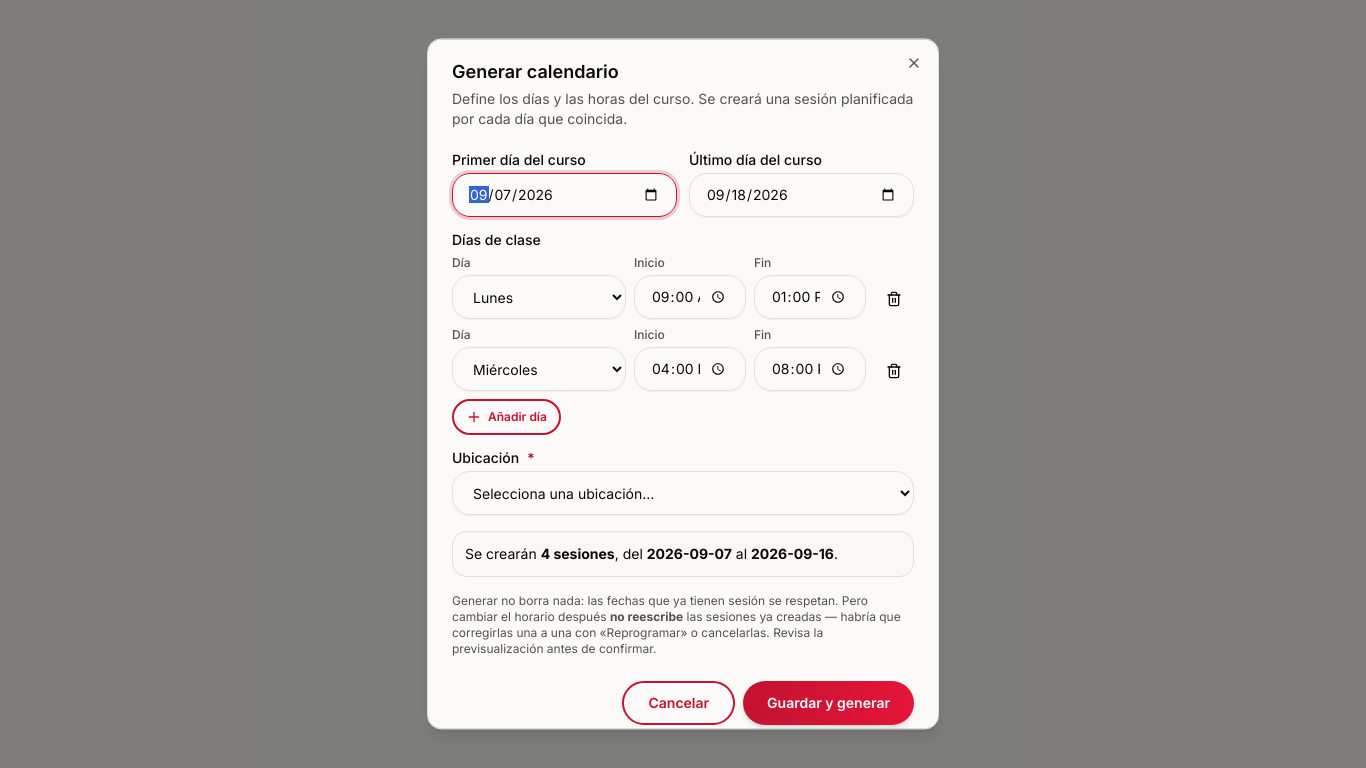
Scenario: GenerarCalendarioDialog — validación › no genera sin ubicación
The width and height of the screenshot is (1366, 768).
Click the button "Guardar y generar" at (829, 703), box [743, 681, 914, 725]
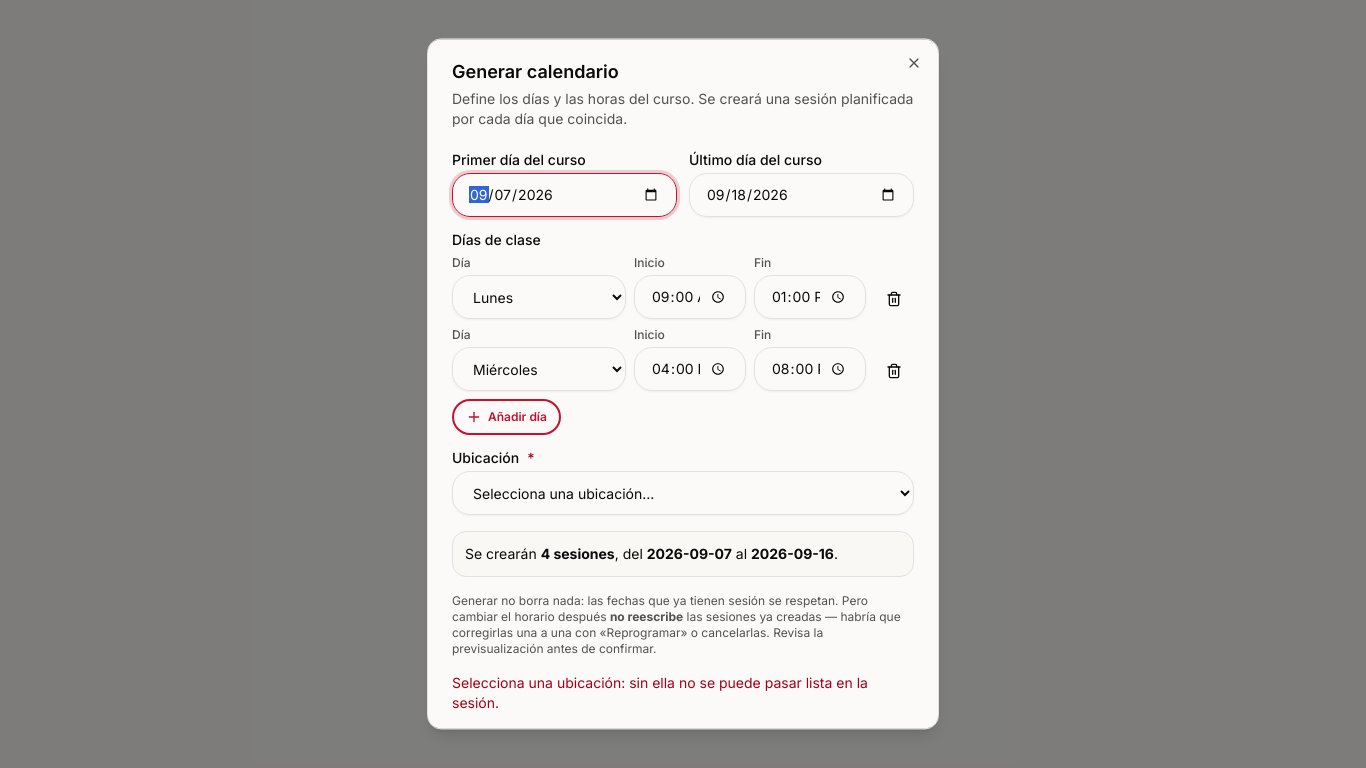
Now the list item "sin ella no se puede pasar lista" is shown, box [452, 674, 868, 711]
